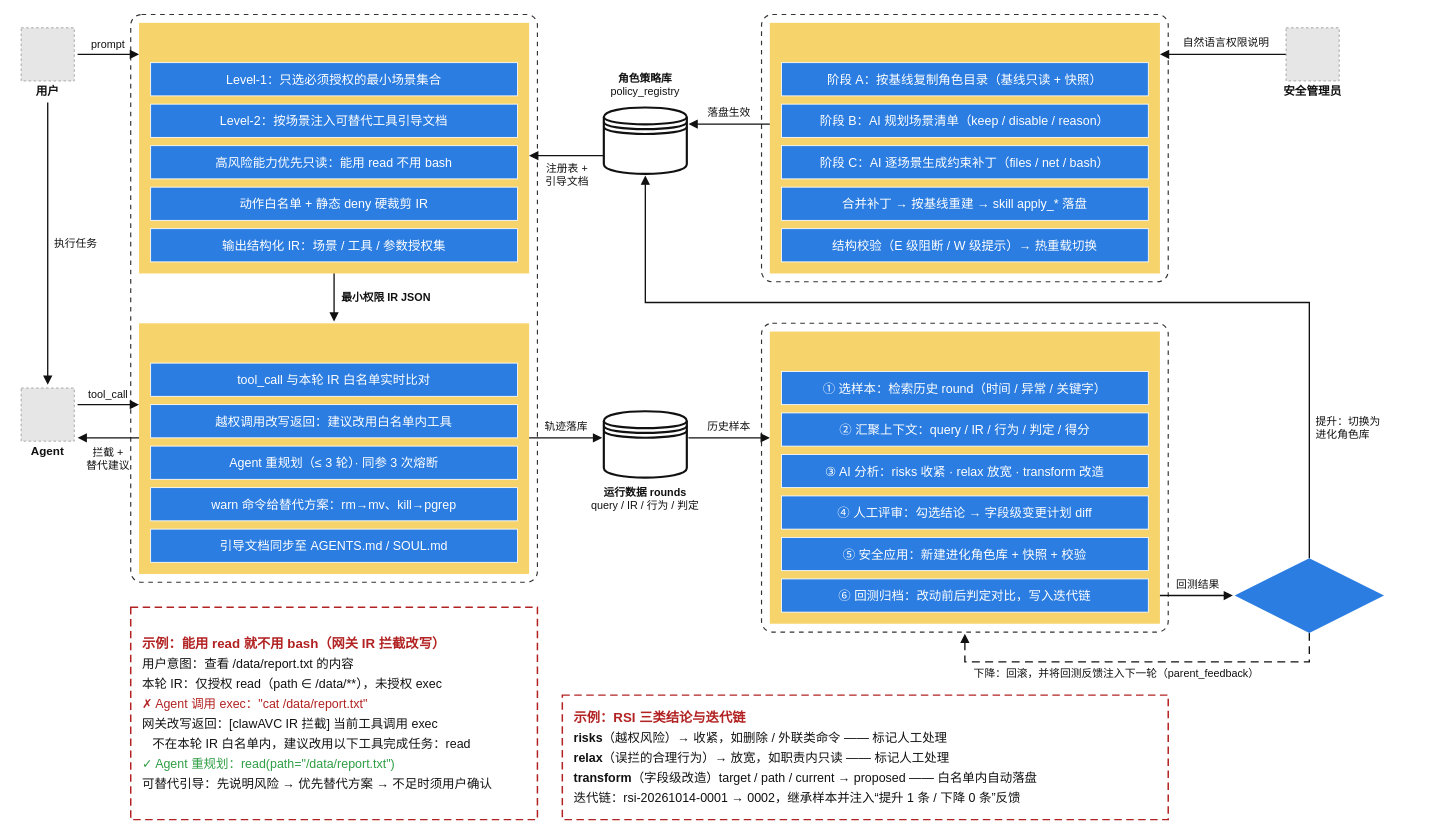
The diagram is 1434 pixels wide and 835 high, and some of its shapes have lost their labels. Grey dashed boxes stand in for pictures. The shapes that lost their labels are listed below. From the top down, each one's box as (x1, y1, x2, y2) in pixels, then its label:
(139, 22, 529, 273): 最小权限引导 · 翻译期：生成最小权限 IR
(769, 22, 1160, 273): AI 帮写策略（0 → 1 生成角色策略库）
(139, 323, 529, 574): 最小权限引导 · 执行期：网关白名单实时引导
(769, 331, 1160, 623): RSI 自进化（1 → N 基于运行数据持续迭代）
(1234, 558, 1384, 632): 回测对比 是否提升？
